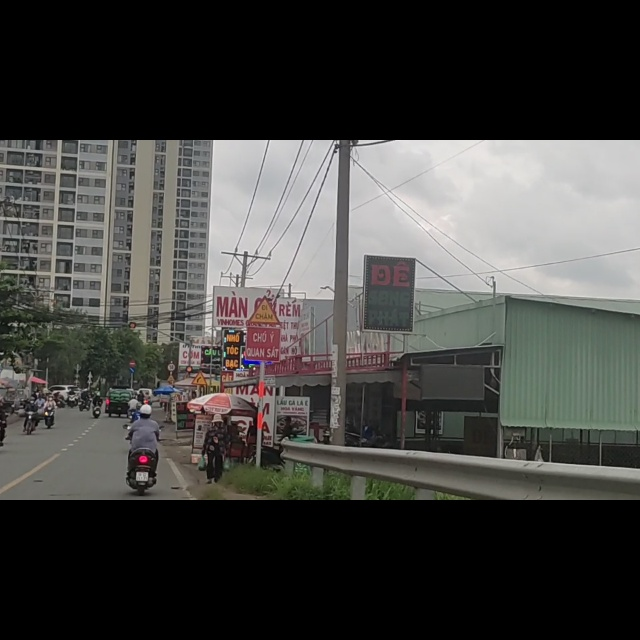bien_cam: (250, 277, 279, 328), (191, 409, 208, 437)
